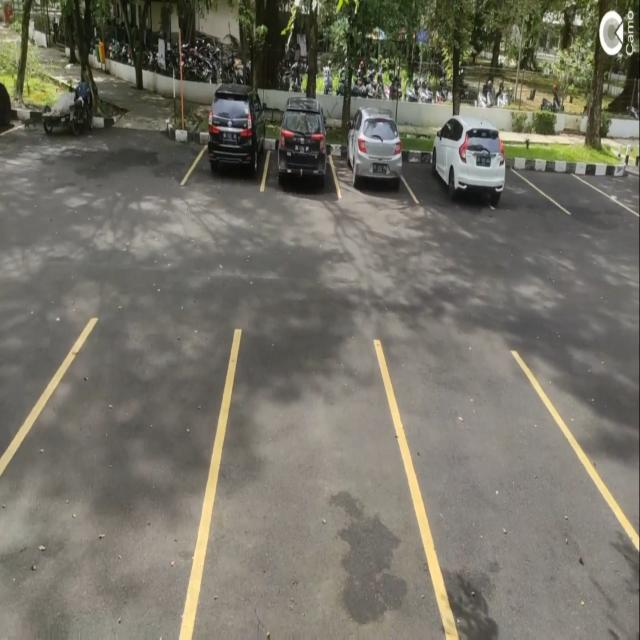empty: (3, 311, 208, 640), (209, 330, 413, 640), (414, 336, 603, 640), (545, 155, 608, 219), (494, 152, 549, 214)
occupied: (406, 114, 494, 211), (190, 94, 266, 194), (265, 110, 336, 194), (336, 115, 406, 198)
